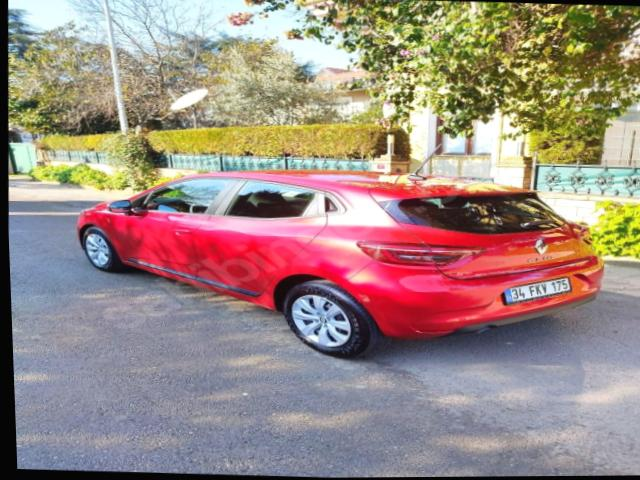plaka: (503, 278, 570, 305)
